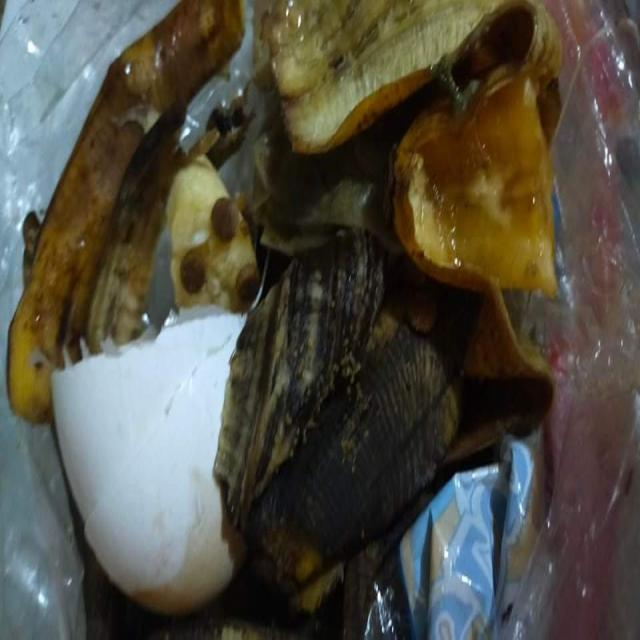egg shell: (49, 304, 252, 616)
